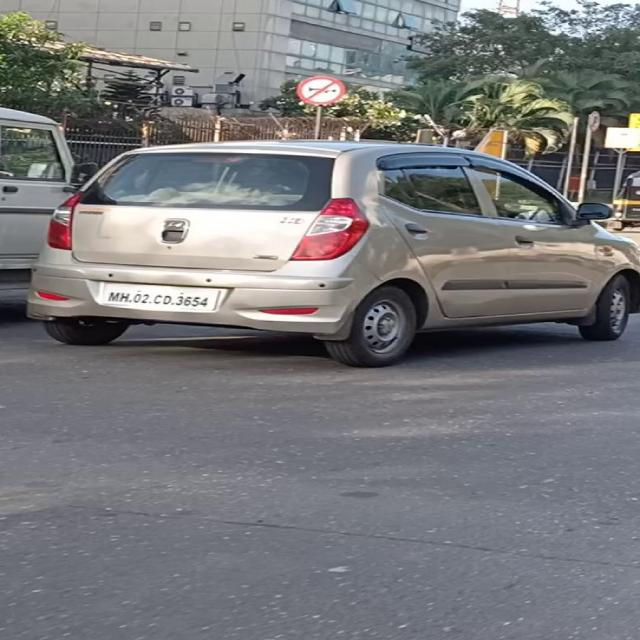Plate: (98, 282, 218, 314)
